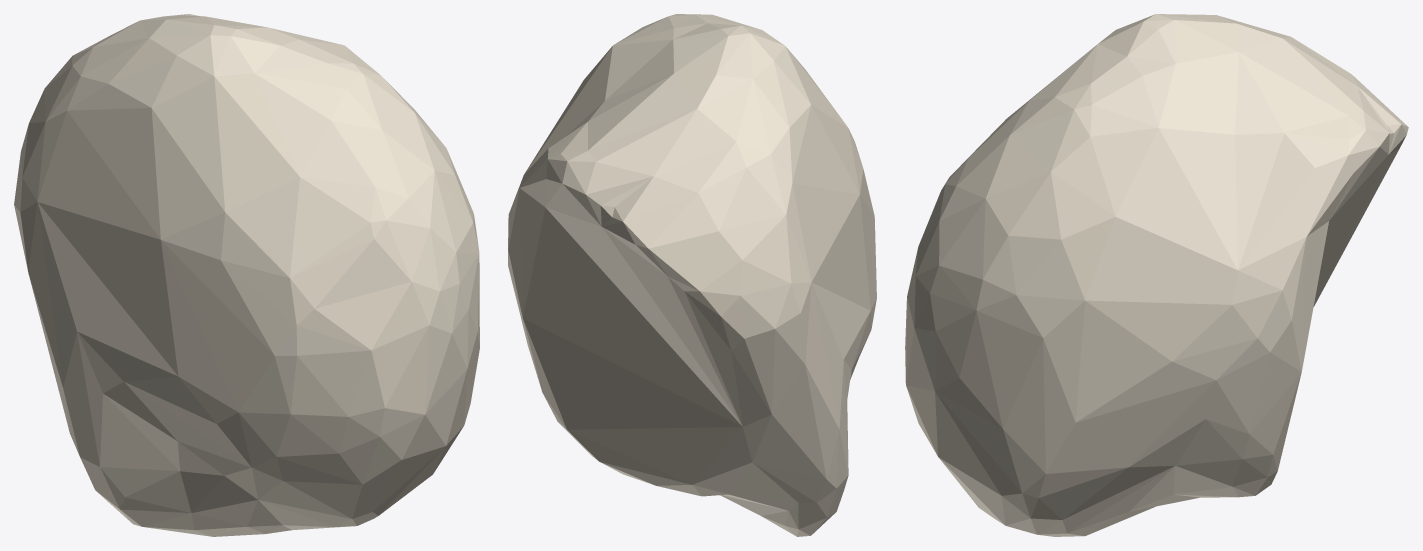
File: left_pisiform.glb
The picture shows the model from 3 angles, left to right: view 1: azimuth 30°, elevation 25°; view 2: azimuth 150°, elevation 25°; view 3: azimuth 270°, elevation 25°; orthographic projection. The views are drawn at different scales.
Visible parts, largest first — view 1: left_pisiform; view 2: left_pisiform; view 3: left_pisiform.
Part boxes in pixels (x1,y1,x2,y2): left_pisiform: [14, 14, 479, 536]; left_pisiform: [508, 14, 876, 536]; left_pisiform: [905, 14, 1408, 536].
Size of the model in its own units: 0.00852 by 0.0119 by 0.0108.
